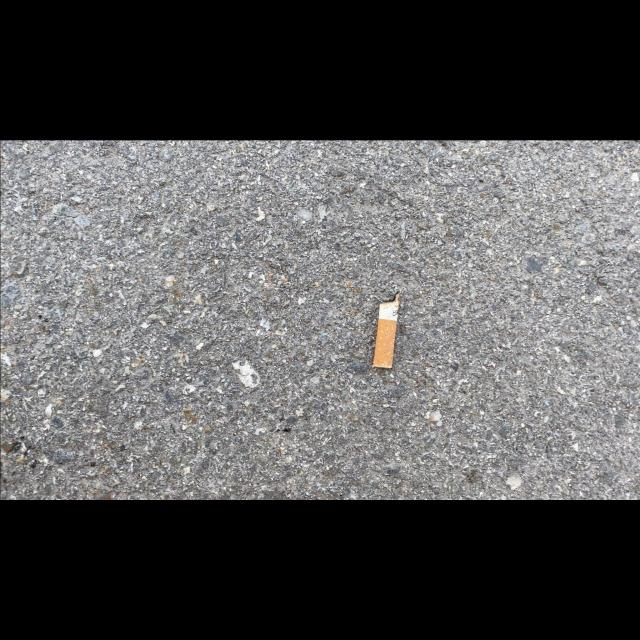cigarette: (372, 291, 400, 368)
